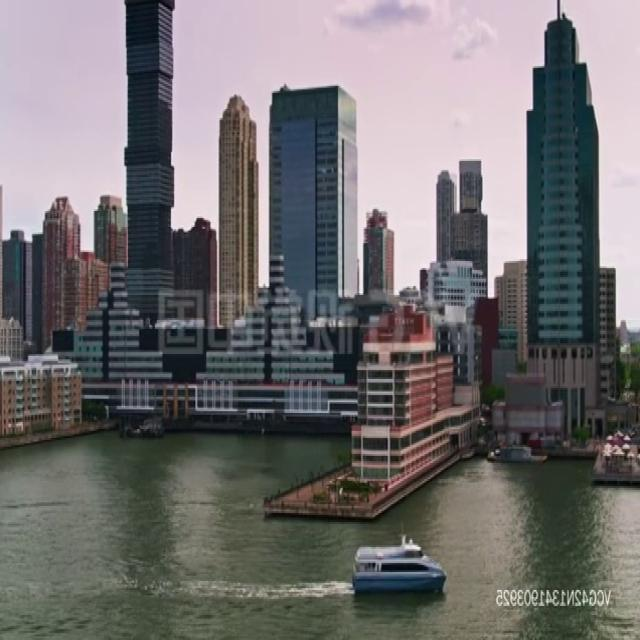houseboat: (352, 530, 452, 598)
passenger ship: (488, 442, 549, 463)
